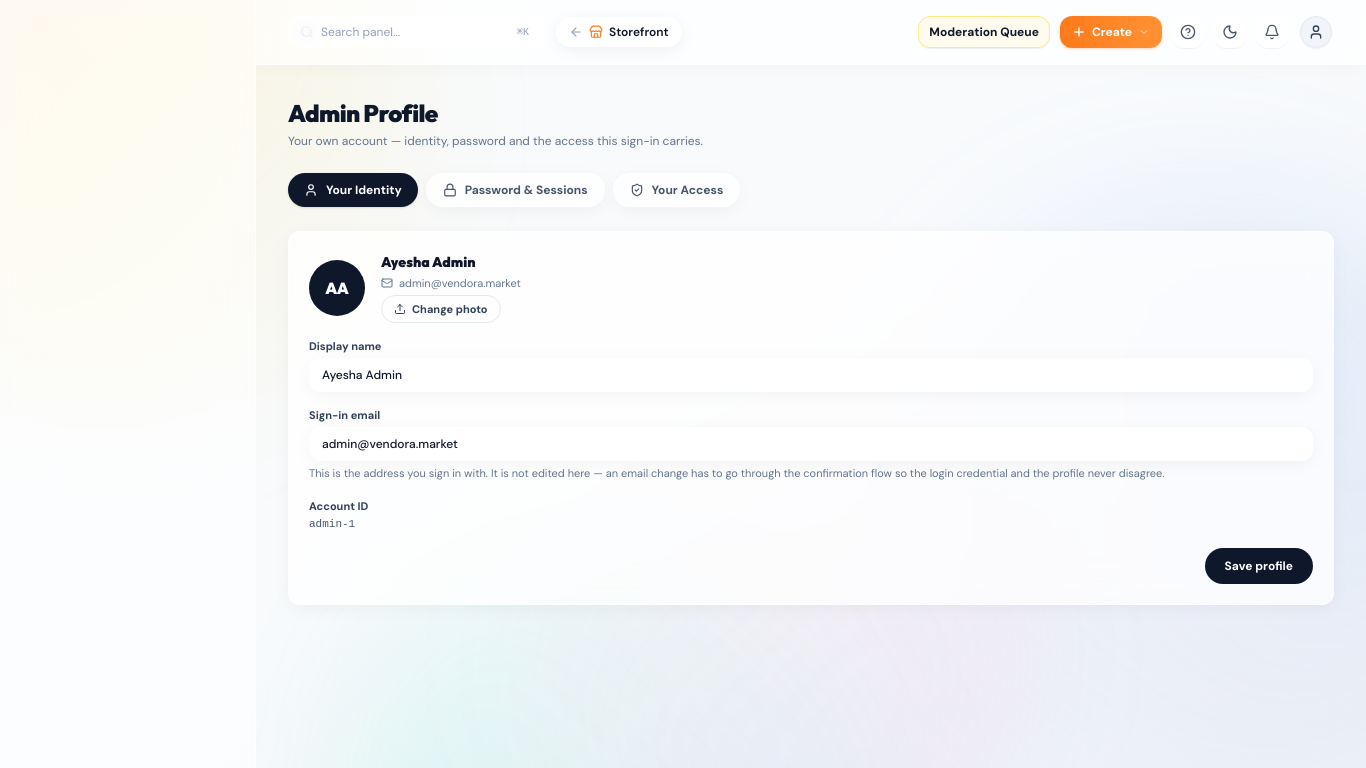
Test: AdminProfilePage › lists the account’s actual roles on the access tab
Click the tab "Your Access" at coordinates (676, 190), box [612, 173, 740, 207]
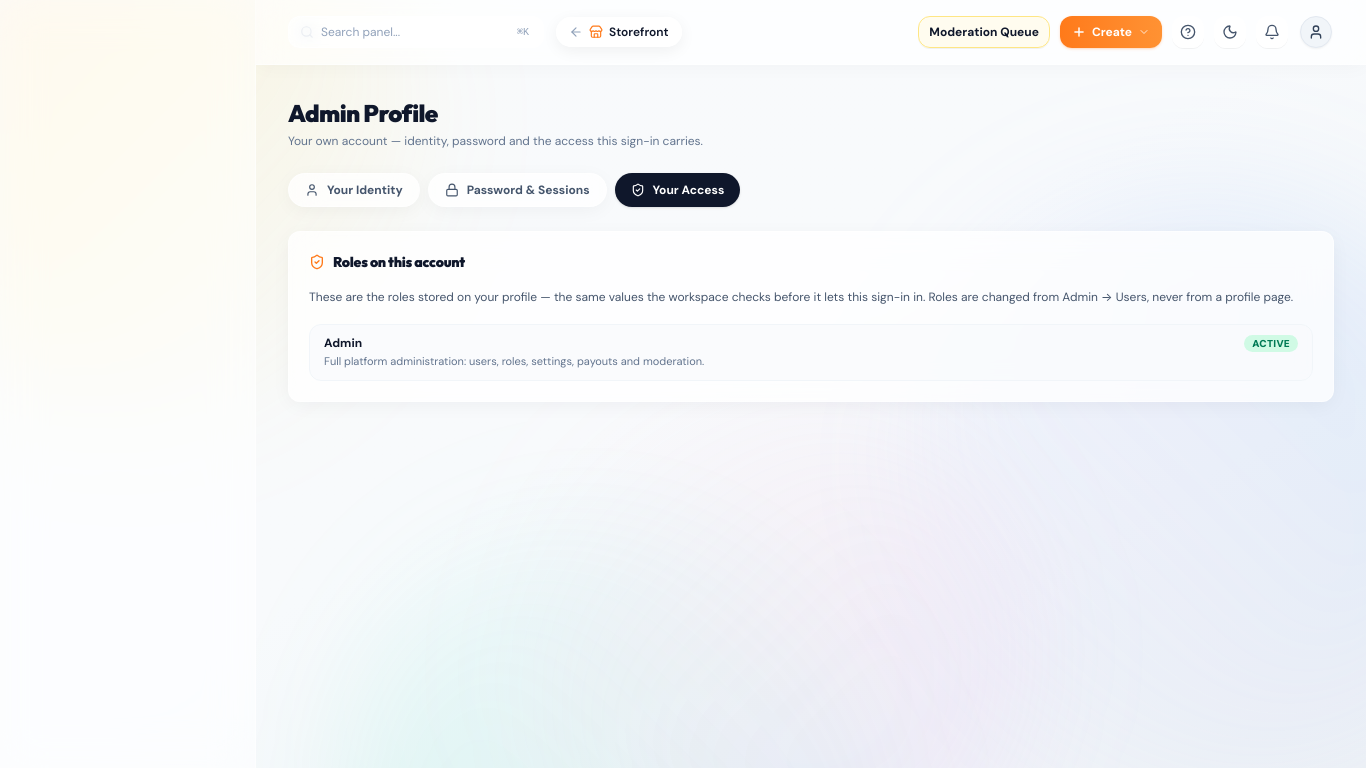
Expected: the text "admin" is shown, [324, 334, 362, 350]
Result: the text "Full platform administration" is shown at [324, 354, 704, 368]
